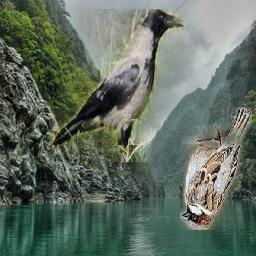Crow: (50, 10, 185, 163)
Sparrow: (180, 108, 252, 231)
